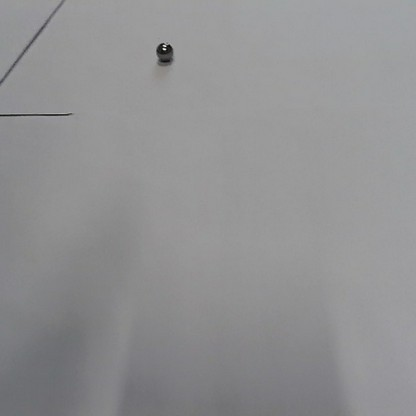ironball: (153, 40, 175, 64)
